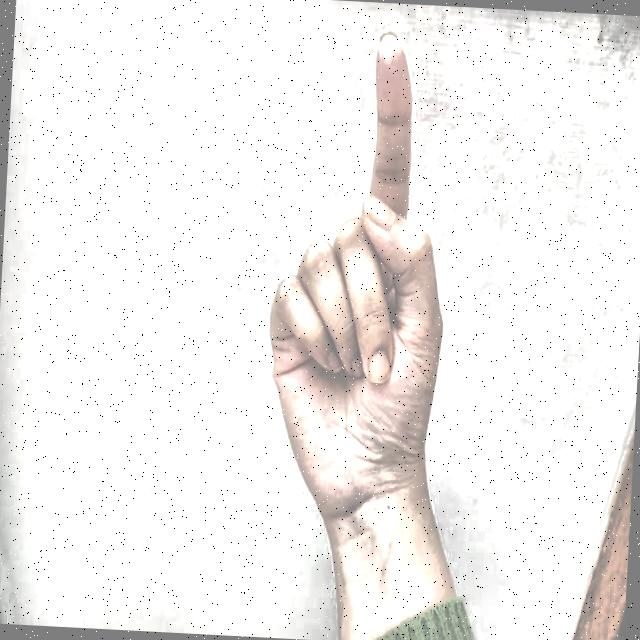U: (245, 11, 474, 556)
